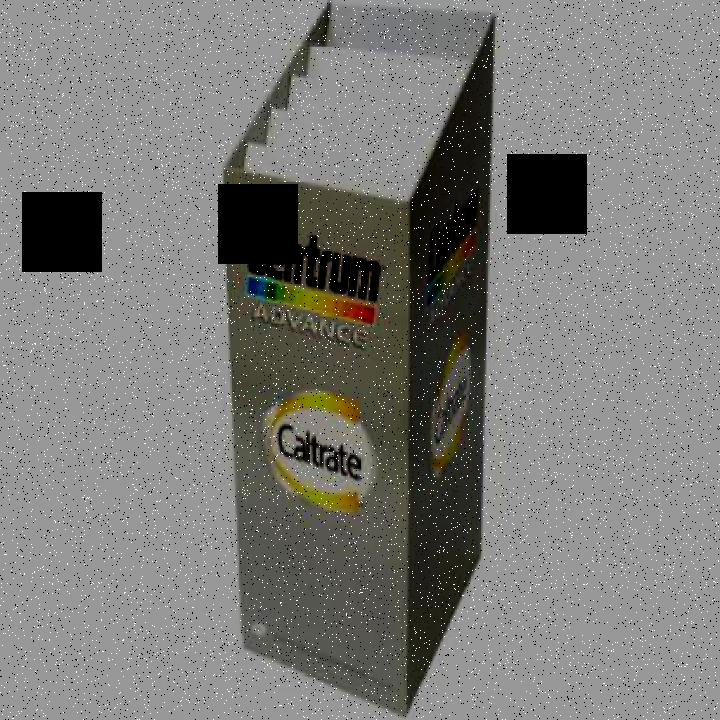box: (224, 0, 501, 718)
